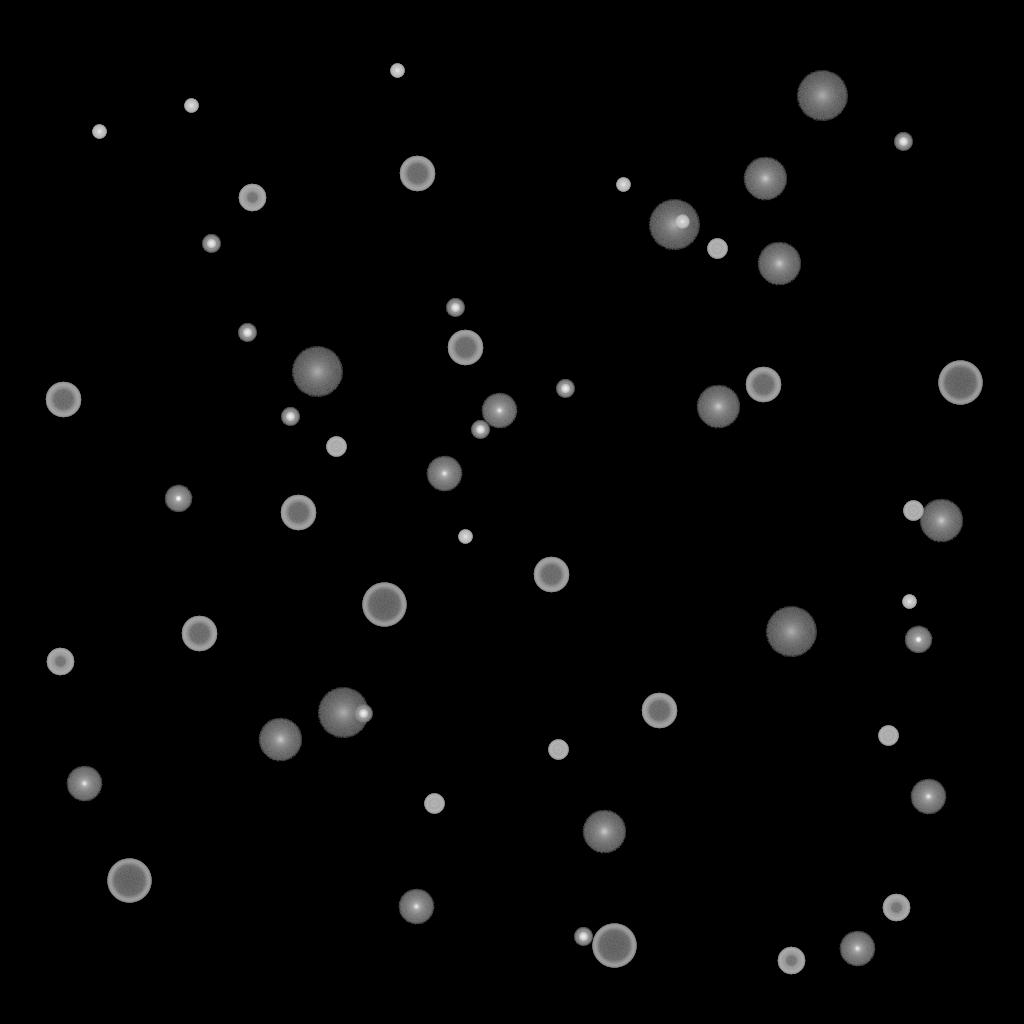depth:-10: (164, 485, 192, 513), (904, 626, 932, 654)
depth:-20: (446, 299, 464, 317), (238, 324, 256, 342), (354, 705, 372, 723), (894, 133, 912, 151), (556, 380, 574, 398), (574, 928, 592, 946), (202, 235, 220, 253), (281, 408, 299, 426), (471, 421, 489, 439)
depth:-30: (675, 215, 689, 229), (92, 125, 106, 139), (616, 178, 630, 192), (458, 530, 472, 544), (184, 99, 198, 113), (390, 64, 404, 78), (902, 595, 916, 609)
depth:-40: (424, 794, 444, 814), (707, 239, 727, 259), (548, 740, 568, 760), (903, 501, 923, 521), (326, 437, 346, 457), (878, 726, 898, 746)
depth:-50: (777, 947, 805, 975), (46, 648, 74, 676), (882, 894, 910, 922), (238, 184, 266, 212)
depth:-60: (280, 495, 316, 531), (641, 693, 677, 729), (745, 367, 781, 403), (399, 156, 435, 192), (533, 557, 569, 593), (447, 330, 483, 366), (45, 382, 81, 418), (181, 616, 217, 652)
depth:-70: (938, 361, 982, 405), (362, 583, 406, 627), (107, 859, 151, 903), (592, 924, 636, 968)
depth:0: (481, 393, 517, 429), (839, 931, 875, 967), (398, 889, 434, 925), (66, 766, 102, 802), (910, 779, 946, 815), (426, 456, 462, 492)
depth:10: (258, 718, 302, 762), (696, 385, 740, 429), (582, 810, 626, 854), (743, 157, 787, 201), (757, 242, 801, 286), (919, 499, 963, 543)
depth:20: (648, 200, 700, 250), (291, 347, 343, 397), (796, 71, 848, 121), (765, 607, 817, 657), (317, 688, 369, 738)
